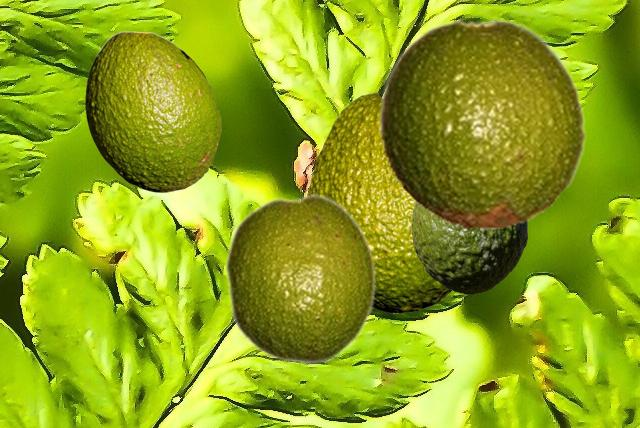avocado: (378, 18, 587, 230), (307, 92, 452, 312), (224, 192, 376, 365), (85, 31, 220, 191), (411, 203, 526, 293)
